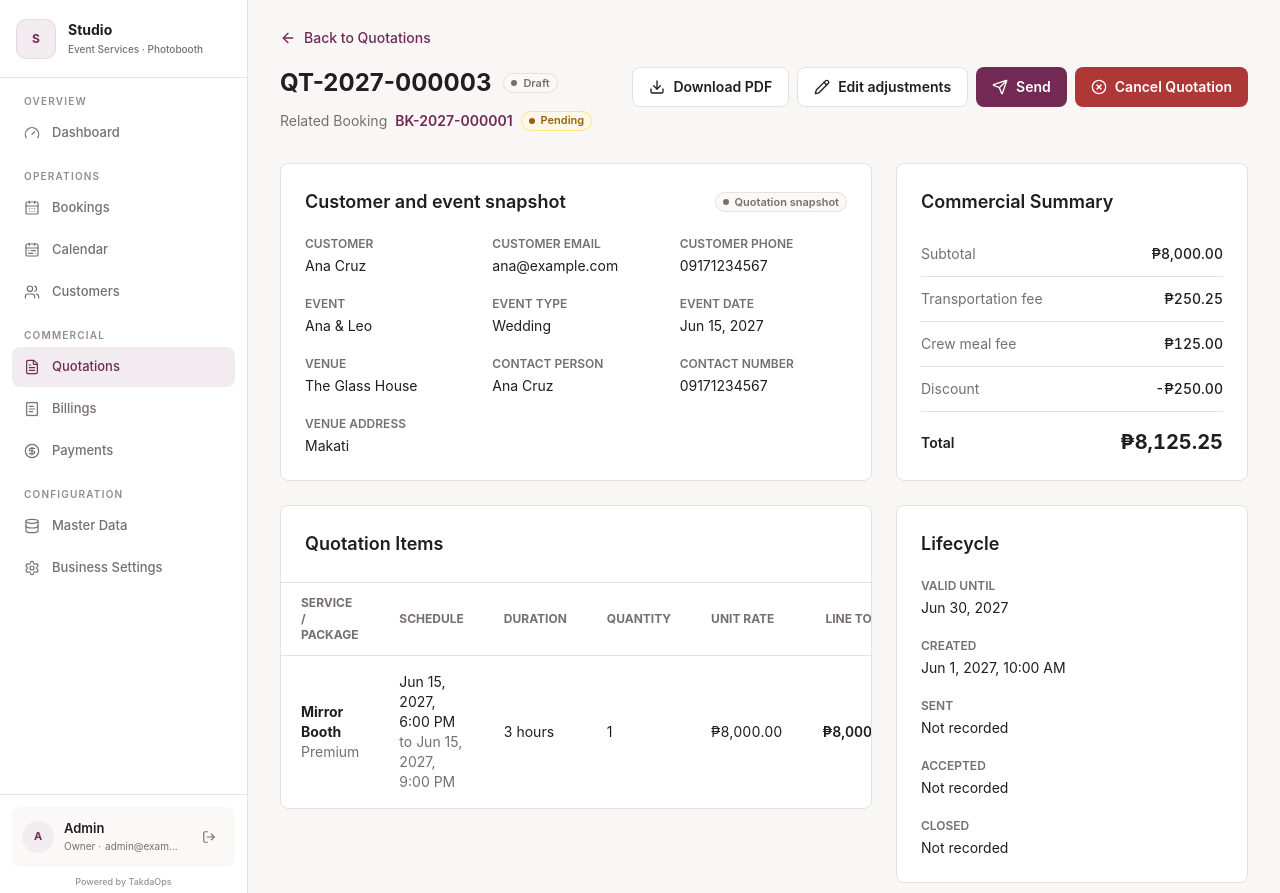
Test: surfaces quotation PDF download failures
This screenshot has width=1280, height=893.
Click the button "Download PDF". click: (711, 87)
box: top-left (632, 67), bottom-right (789, 107)
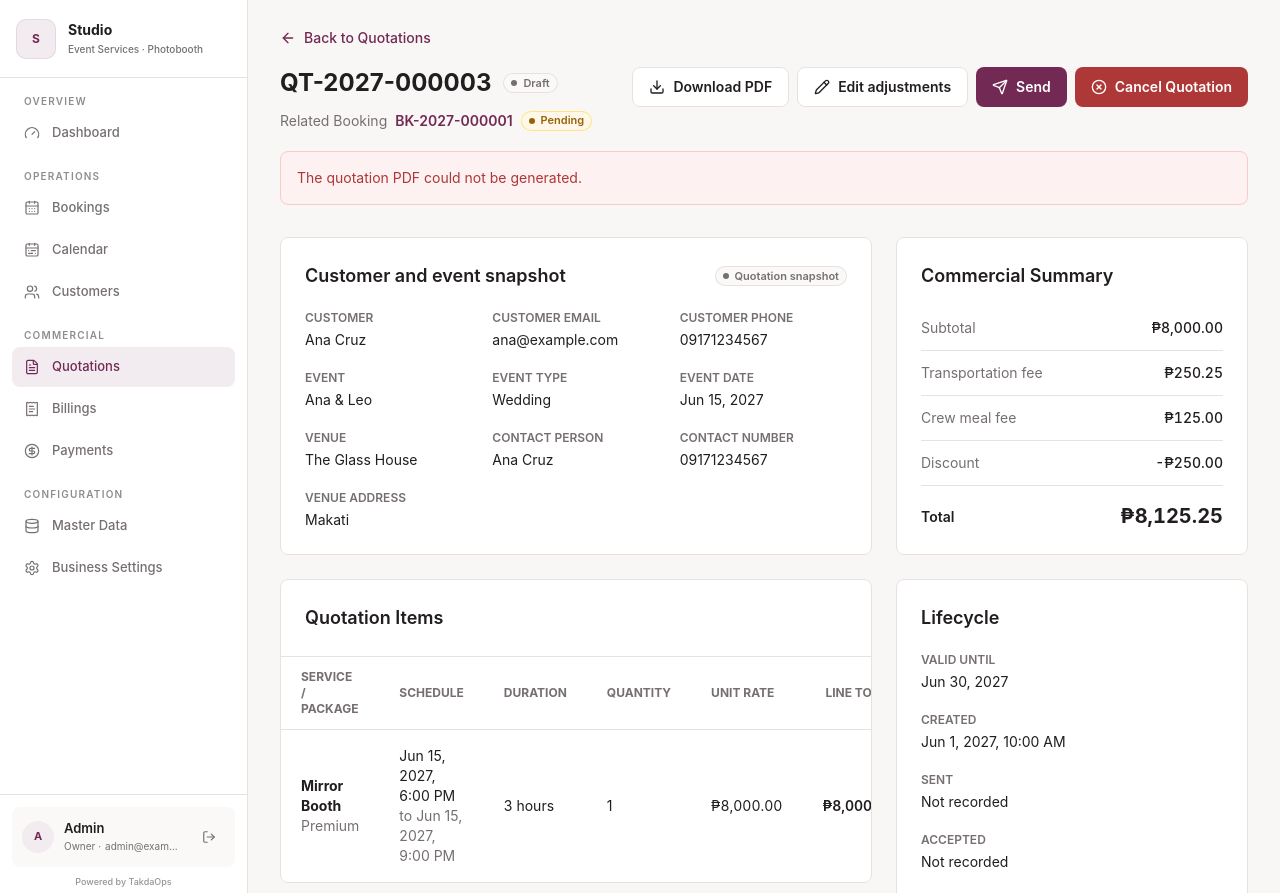
Check: the message reads "The quotation PDF could not be generated.", box top-left (297, 169), bottom-right (582, 186)
